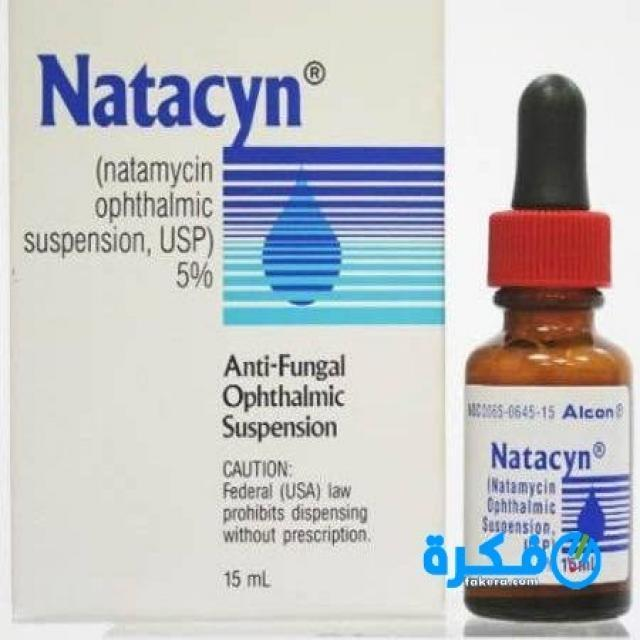drug-name: (32, 51, 302, 152)
